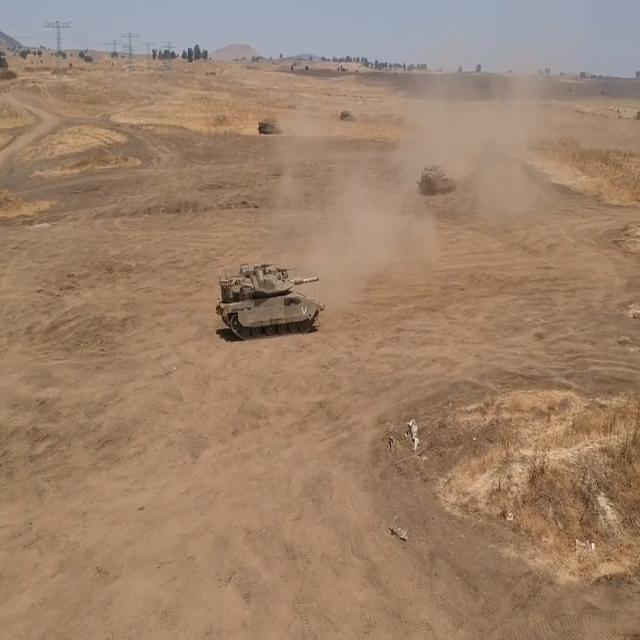tank: (212, 252, 332, 343), (410, 158, 460, 197), (256, 111, 290, 143), (337, 104, 355, 124)
